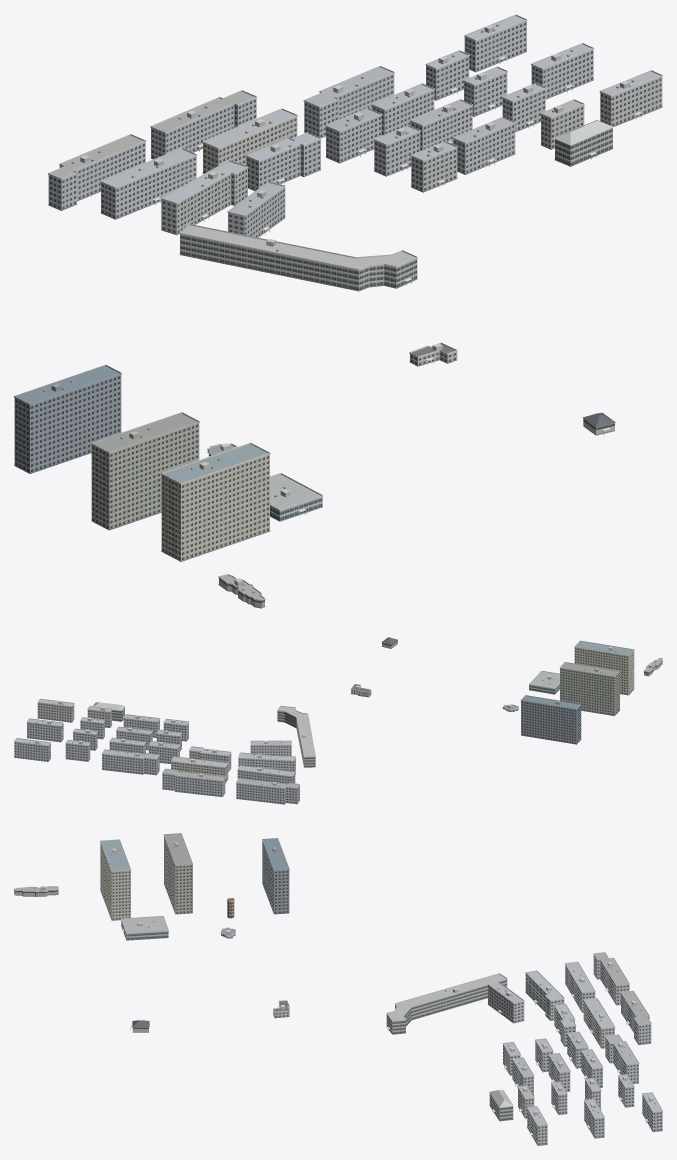
The picture shows the model from 3 angles, top to bottom: view 1: azimuth 30°, elevation 25°; view 2: azimuth 150°, elevation 25°; view 3: azimuth 270°, elevation 25°; orthographic projection. The views are drawn at different scales.
Parts seen in each view (by area): view 1: manual-12, manual-3, manual-7, 1425504862, 1425305058, 1425305057, 1425305065, 1425305059, 1425305068, 1425305067, 1425305066, 1425305081 (+15 smaller); view 2: manual-7, manual-3, manual-12, 1425305057, 1425305065, 1425305068, 1425504862, 1425305067, 1425305059, 1425305058, 1425305081, 1425305082 (+15 smaller); view 3: 1425504862, manual-12, manual-7, manual-3, 1425305065, 1425305057, 1425305059, 1425305060, 1425305068, 862952698, 1425305067, 1425305058 (+12 smaller).
Part boxes in pixels (x1,y1,x2,y2): manual-12: (161,442,270,561); manual-3: (14,364,121,473); manual-7: (91,412,199,530); 1425504862: (179,224,417,291); 1425305058: (100,148,197,219); 1425305057: (48,134,146,210); 1425305065: (150,90,257,159); 1425305059: (161,160,248,235); 1425305068: (303,66,394,137); 1425305067: (202,108,297,173); 1425305066: (245,132,321,191); 1425305081: (599,70,662,126); manual-7: (559,662,619,715); manual-3: (520,695,581,744); manual-12: (574,640,634,695); 1425305057: (236,778,299,804); 1425305065: (162,768,225,796); 1425305068: (102,749,159,775); 1425504862: (277,705,315,767); 1425305067: (171,756,228,783); 1425305059: (238,752,295,774); 1425305058: (237,765,295,783); 1425305081: (37,698,74,722); 1425305082: (27,718,63,742); 1425504862: (386,973,507,1034); manual-12: (100,839,131,920); manual-7: (163,833,193,914); manual-3: (262,838,289,914); 1425305065: (620,990,651,1045); 1425305057: (593,952,629,1005); 1425305059: (525,970,564,1020); 1425305060: (487,981,524,1023); 1425305068: (605,1034,639,1083); 862952698: (121,915,168,940); 1425305067: (583,998,615,1048); 1425305058: (565,961,595,1012).
Size of the model in its own units: 637 by 58.2 by 663.
6 materials, 5 textured.
